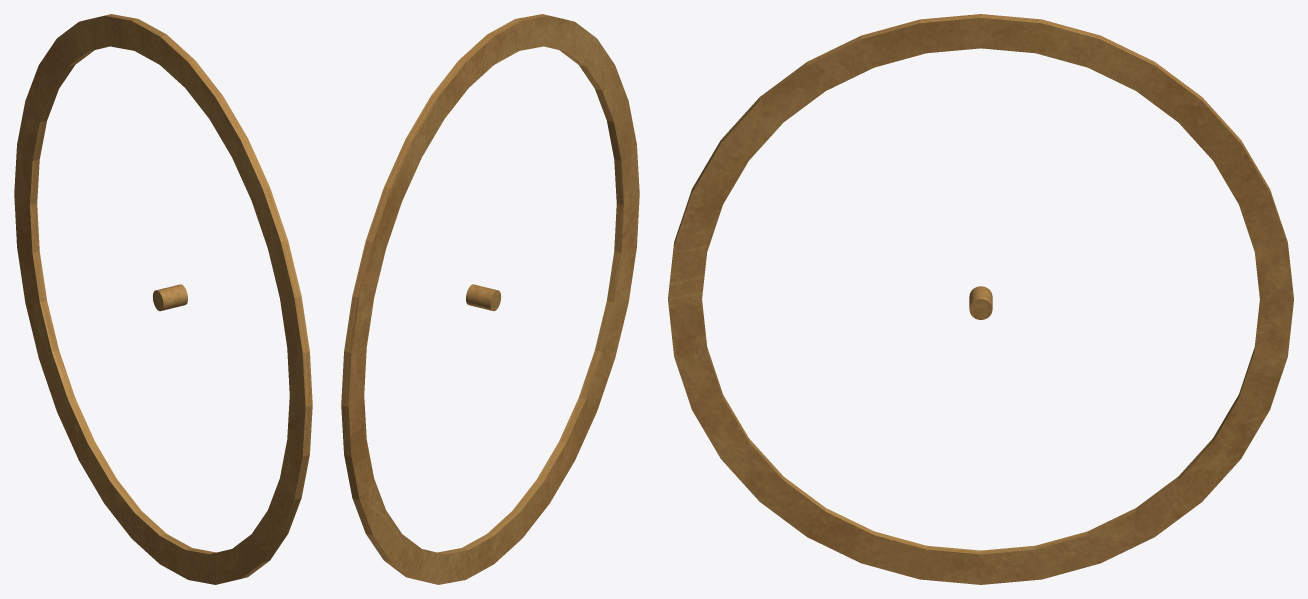
File: VenusStructure.fbx
3 renders of one model, left to right at view 1: azimuth 30°, elevation 25°; view 2: azimuth 150°, elevation 25°; view 3: azimuth 270°, elevation 25°, orthographic. The views are drawn at different scales.
Visible parts, largest first — view 1: Contour, Centre; view 2: Contour, Centre; view 3: Contour.
Part boxes in pixels (left/top/right/bottom): Contour: left=14, top=14, right=312, bottom=584; Centre: left=153, top=284, right=187, bottom=311; Contour: left=341, top=14, right=639, bottom=584; Centre: left=466, top=284, right=500, bottom=311; Contour: left=668, top=14, right=1293, bottom=584.
Bounding box in the file's own units: 26.9 × 553 × 553.
Materials: 2 (2 with a texture image).
